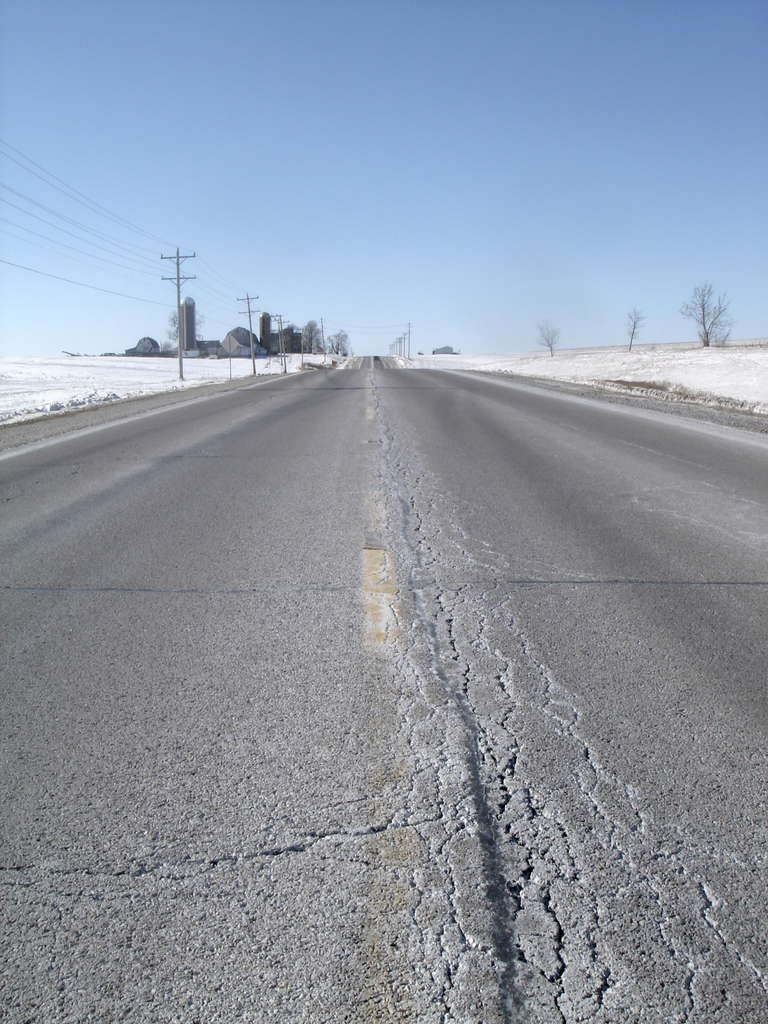Tree: (654, 274, 754, 351), (163, 306, 204, 352), (617, 303, 657, 350), (297, 320, 350, 353), (533, 315, 561, 352)
